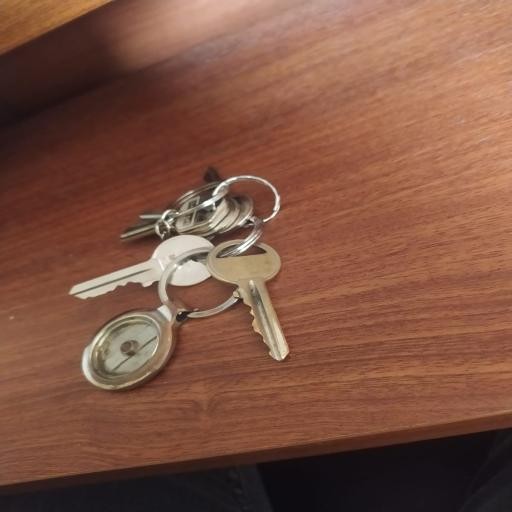Llaves: (61, 158, 303, 406)
